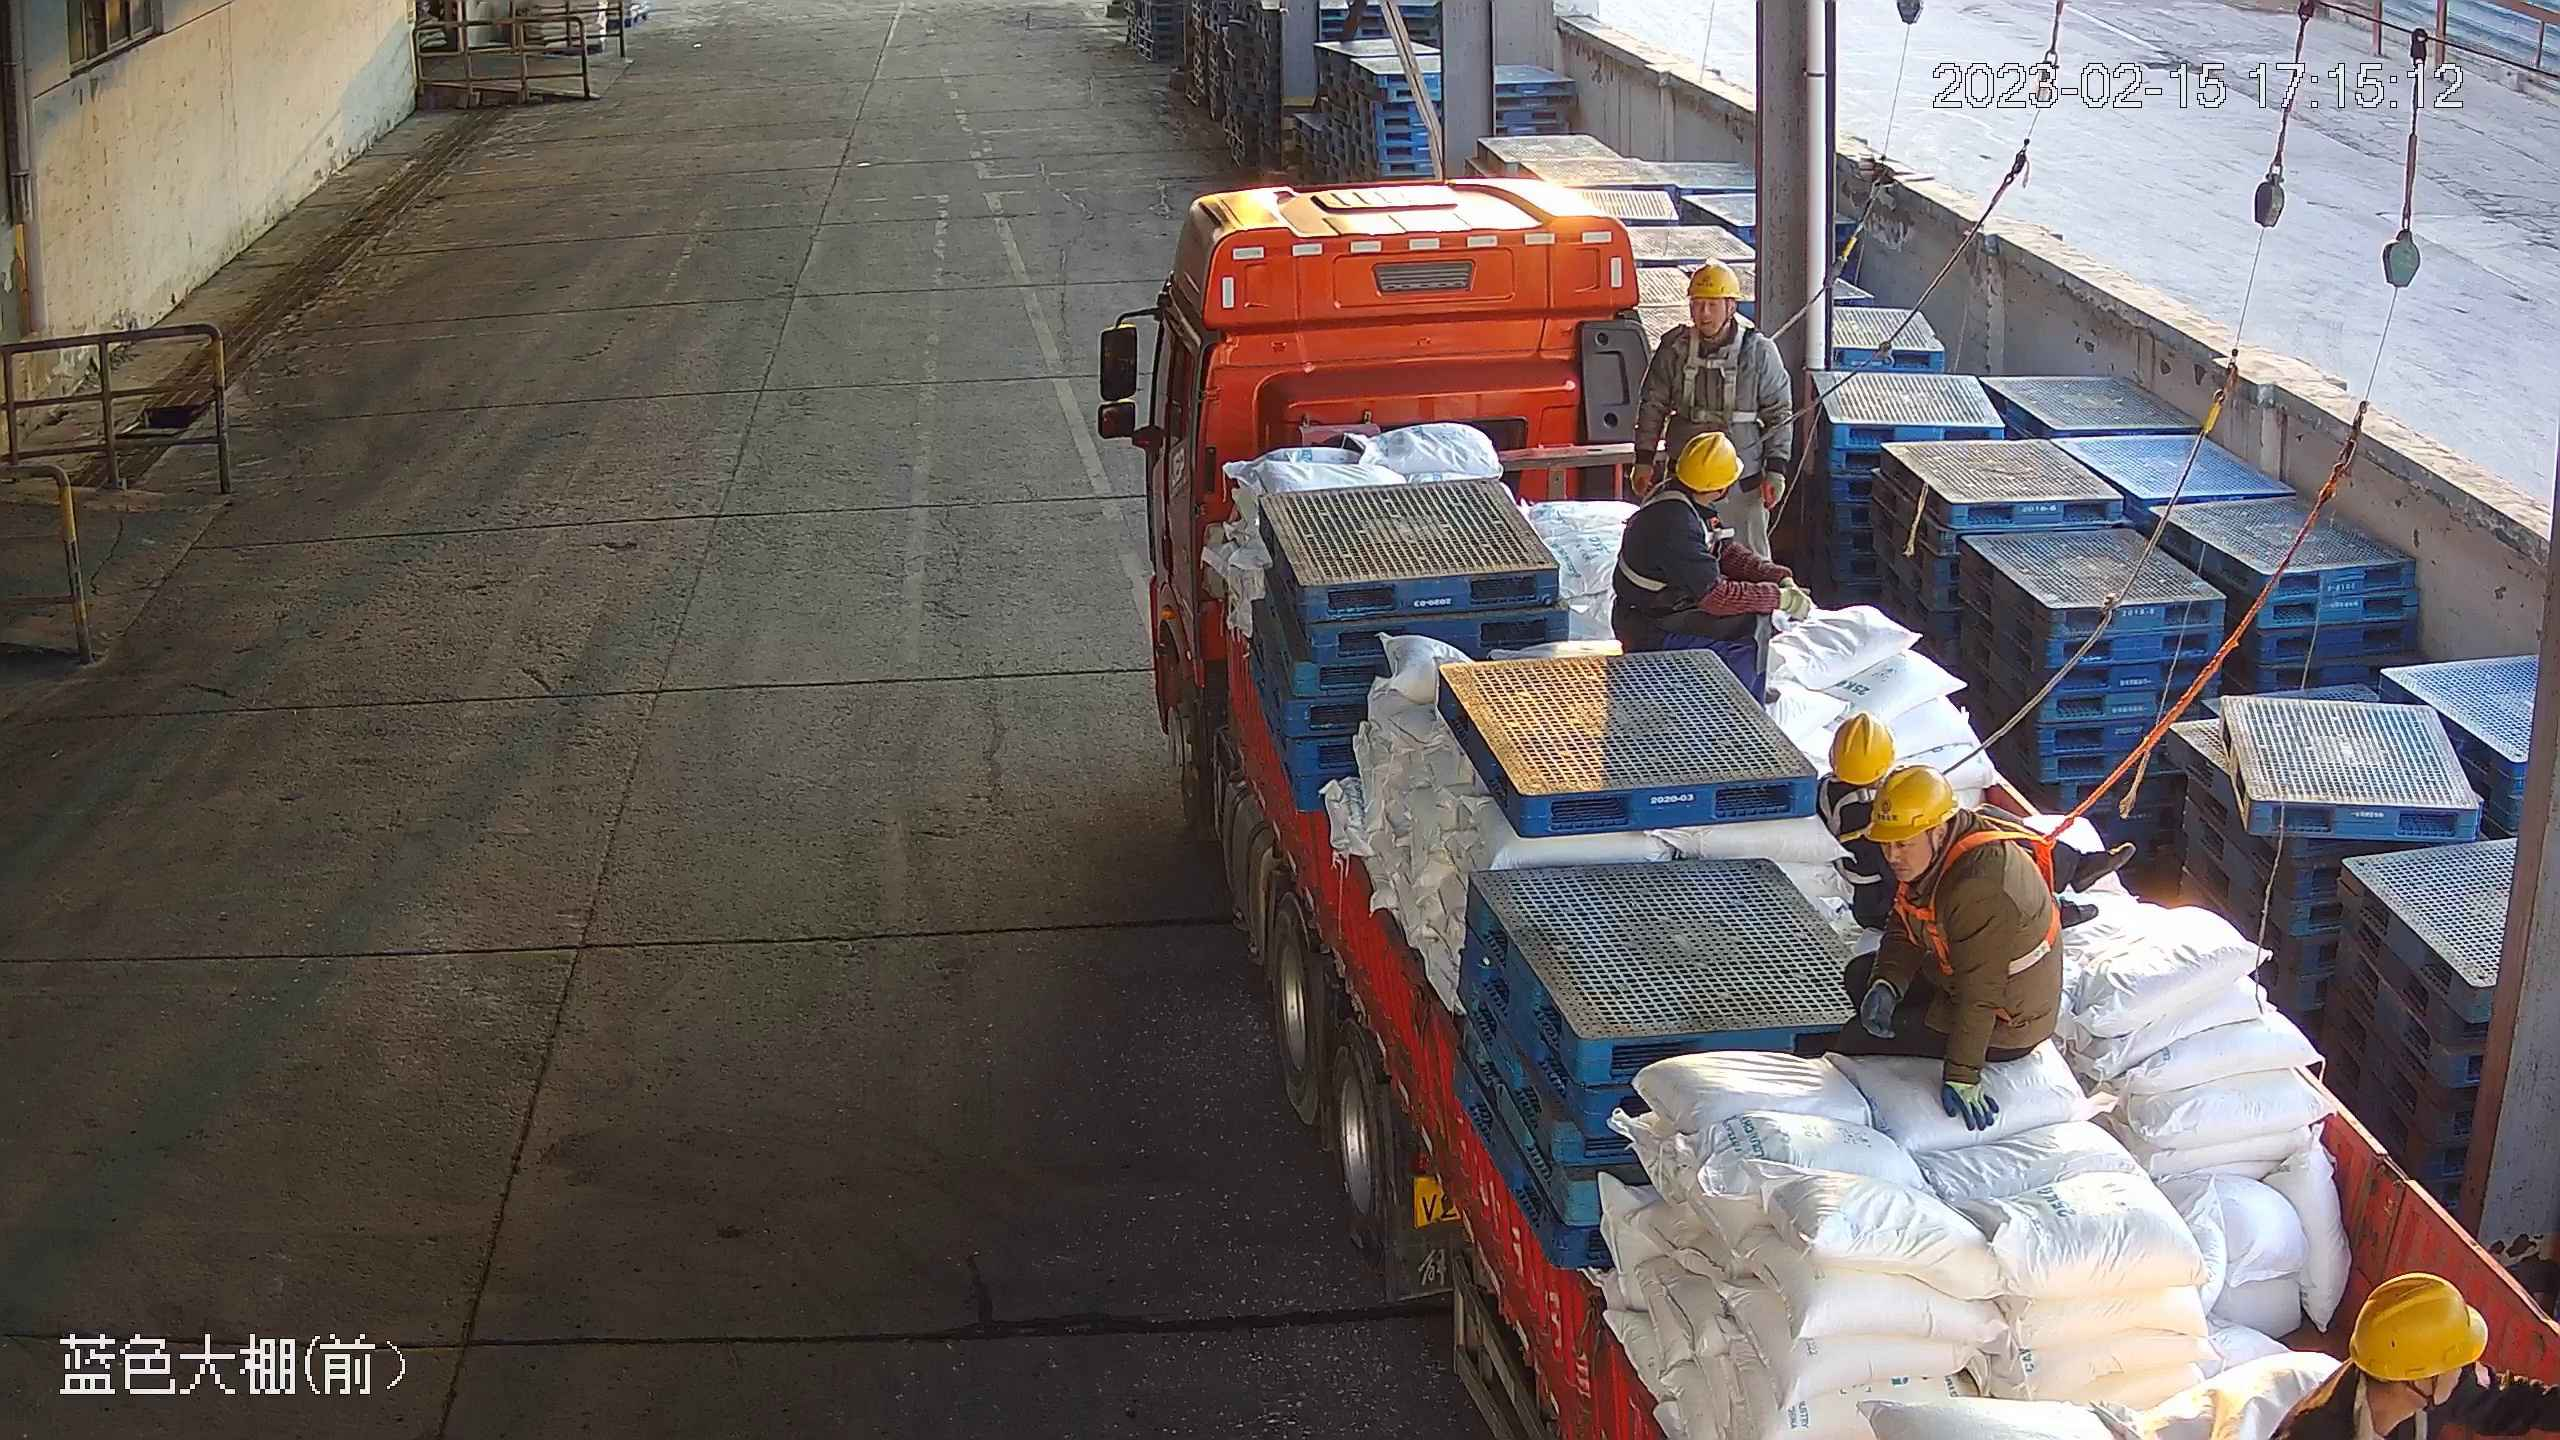belt: (1894, 812, 2065, 976), (1615, 479, 1736, 591), (1674, 326, 1757, 426), (1818, 774, 1888, 886)
head: (1863, 764, 2027, 923), (1654, 257, 1780, 378), (1626, 431, 1744, 546), (1814, 710, 1896, 819)
helmet: (2350, 1271, 2487, 1381), (1862, 764, 1959, 843), (1827, 711, 1895, 786), (1673, 429, 1743, 492), (1686, 257, 1741, 299)
people: (1837, 765, 2063, 1130), (1815, 709, 2136, 932), (1608, 429, 1812, 713), (1625, 256, 1792, 563)
truck: (1097, 180, 2560, 1440)
